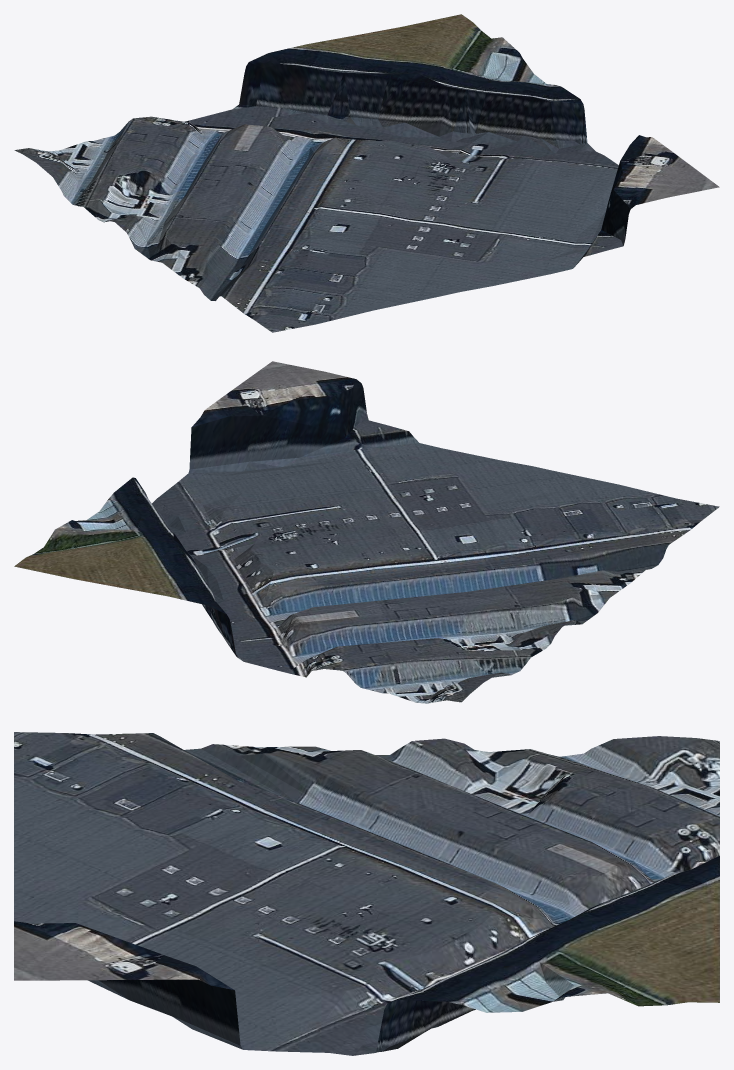
The model's file is map_15_8185_13785.dae.
3 views of the same model, one above another, from view 1: azimuth 30°, elevation 25°; view 2: azimuth 150°, elevation 25°; view 3: azimuth 270°, elevation 25° (orthographic). The views are drawn at different scales.
Parts seen in each view (by area): view 1: Ter0; view 2: Ter0; view 3: Ter0.
Boxes of the visible parts, x1,y1,x2,y2 form: Ter0: (14,14,719,332); Ter0: (14,361,719,703); Ter0: (14,732,719,1055).
Bounding box in the file's own units: 63.87 × 63.88 × 8.62.
3 materials, 3 textured.
